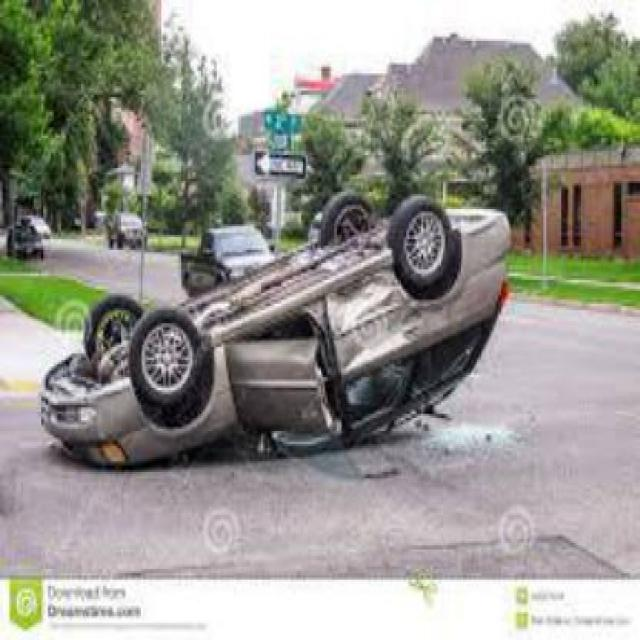accident: (37, 169, 514, 471)
